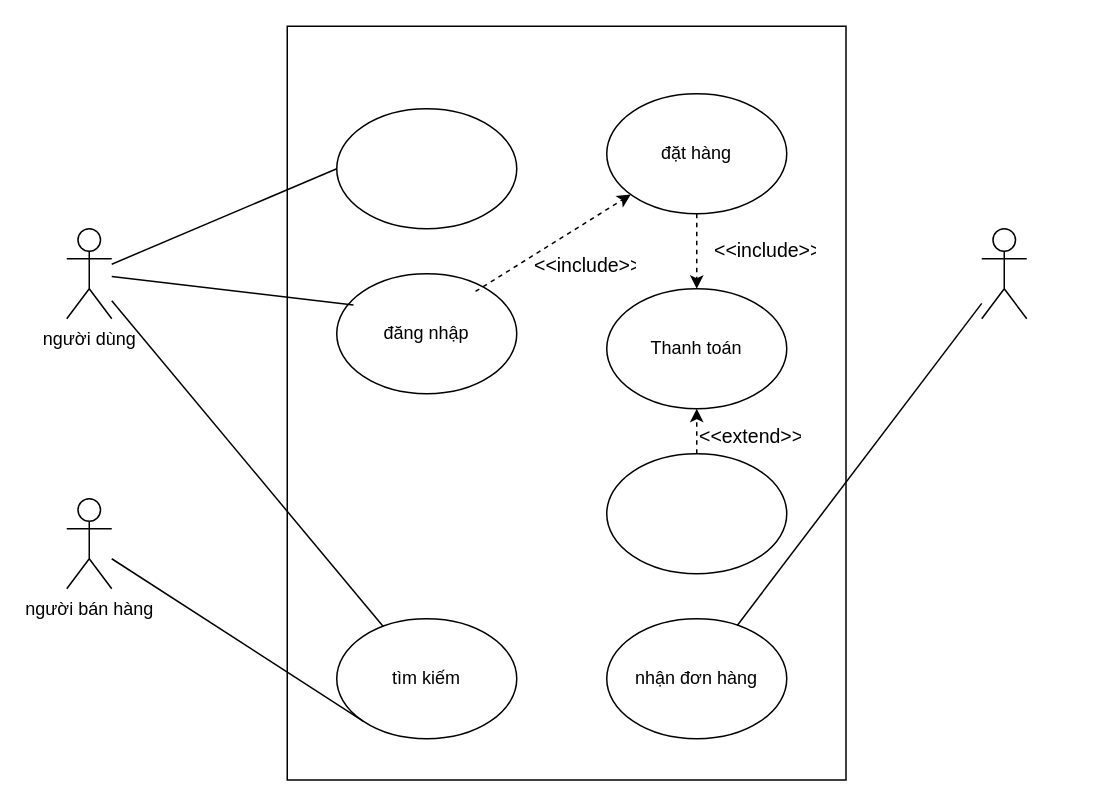
This 1098x807 diagram has some shape labels left out. Here are the shapes that lost their labels. From the top down, the centre of each, then its label:
At (426,168): "Đăng ký".
At (1003,273): "Người giao hàng".
At (696,513): "Áp dụng mã giảm giá".
